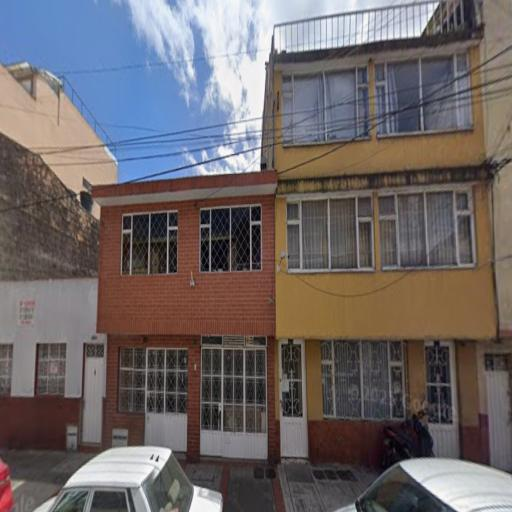Casa: (252, 0, 503, 474), (92, 170, 276, 457), (0, 278, 108, 449)
